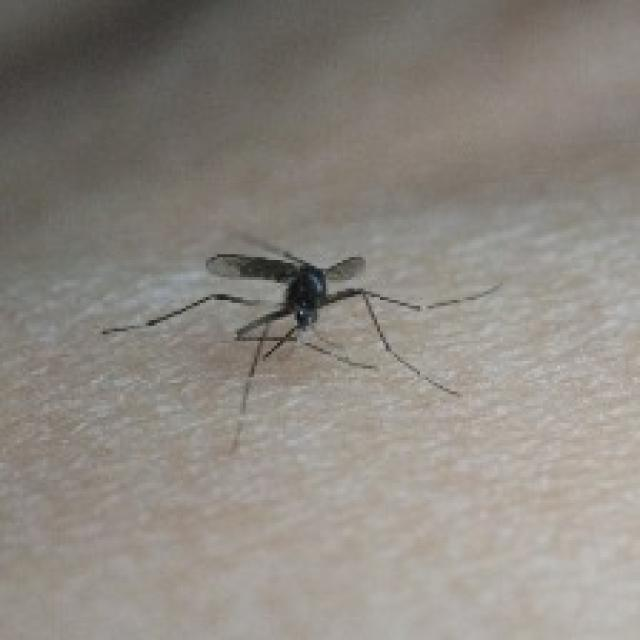aedes: (97, 232, 503, 452)
